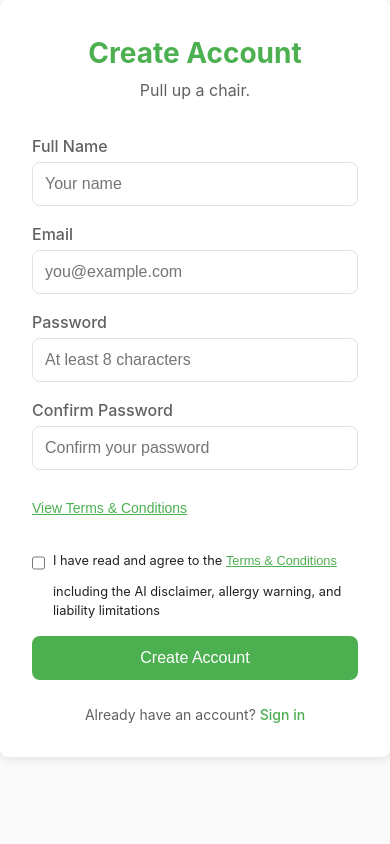
it: RegisterView › loads terms on mount
Note: Toggle terms to verify loaded content
Click the button with class "terms-toggle". click: {"x": 110, "y": 508}
box: [32,486,187,530]
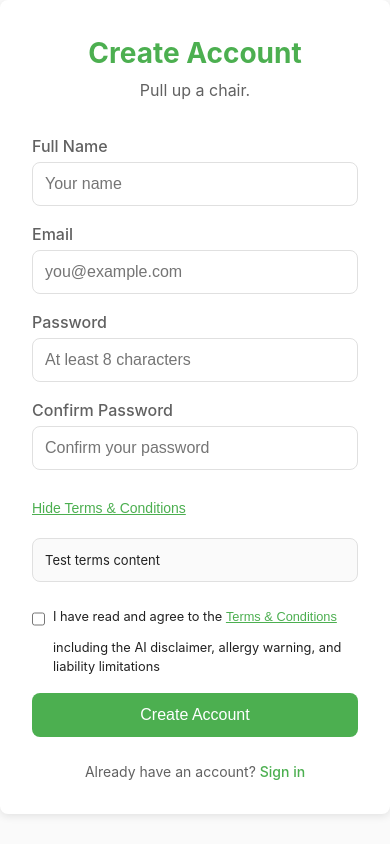
Now the text with class "terms-text" reads "Test terms content", box [45,552,160,568]
